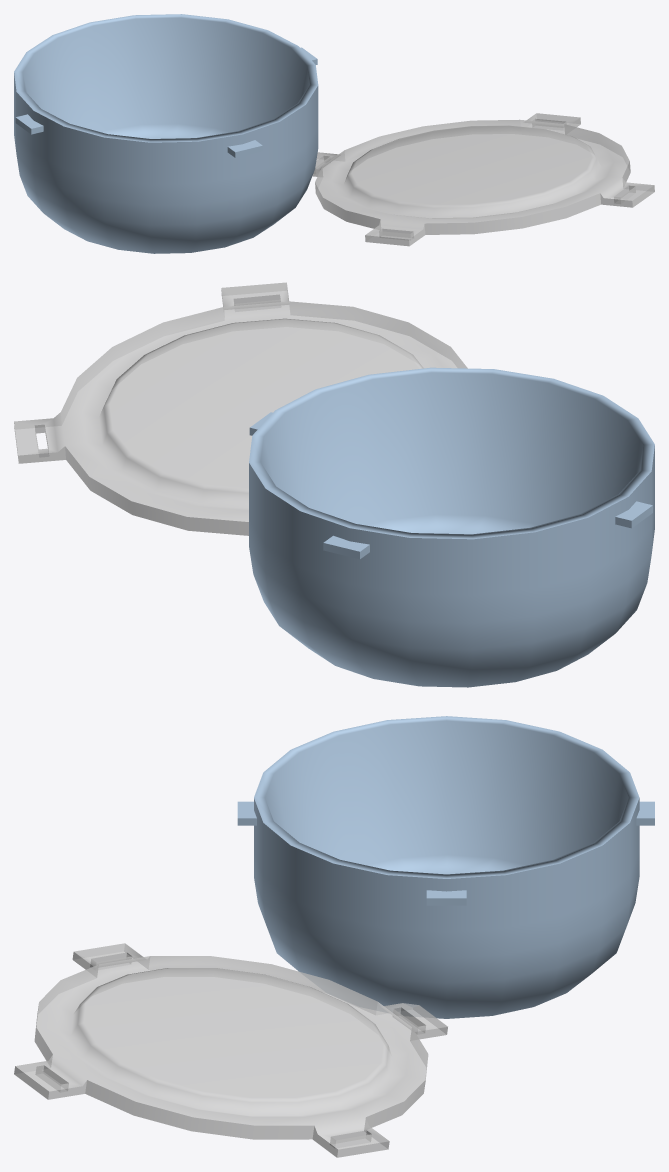
The model's file is MealBox.fbx.
3 renders of one model, top to bottom at view 1: azimuth 30°, elevation 25°; view 2: azimuth 150°, elevation 25°; view 3: azimuth 270°, elevation 25°, orthographic. The views are drawn at different scales.
Parts seen in each view (by area): view 1: pCylinder7, pCylinder6; view 2: pCylinder7, pCylinder6; view 3: pCylinder7, pCylinder6.
Boxes of the visible parts, <box> form: pCylinder7: <box>14,14,318,253</box>; pCylinder6: <box>312,113,654,246</box>; pCylinder7: <box>249,367,654,687</box>; pCylinder6: <box>14,282,467,535</box>; pCylinder7: <box>237,716,654,1018</box>; pCylinder6: <box>14,943,447,1157</box>.
Size of the model in its own units: 13.94 by 3.26 by 11.94.
